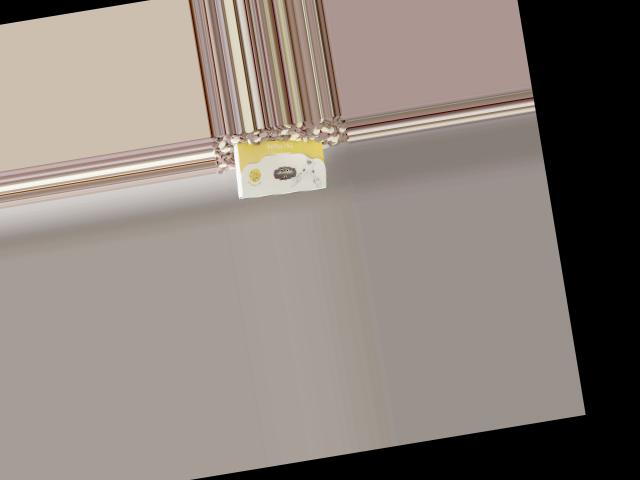chocolate: (225, 126, 335, 206)
